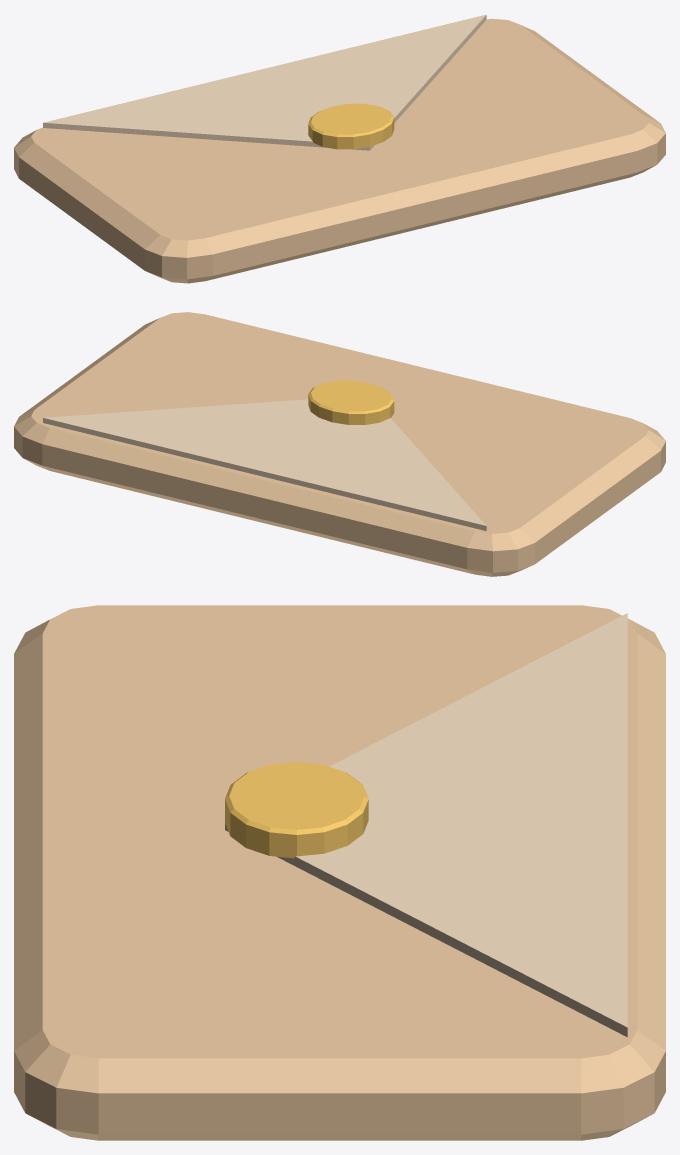
File: rent_envelope.glb
3 renders of one model, top to bottom at view 1: azimuth 30°, elevation 25°; view 2: azimuth 150°, elevation 25°; view 3: azimuth 270°, elevation 25°, orthographic. The views are drawn at different scales.
Parts seen in each view (by area): view 1: model; view 2: model; view 3: model.
Part boxes in pixels (x1,y1,x2,y2): model: (14,14,665,283); model: (14,312,665,576); model: (14,605,665,1140).
Size of the model in its own units: 0.35 by 0.04 by 0.2.
